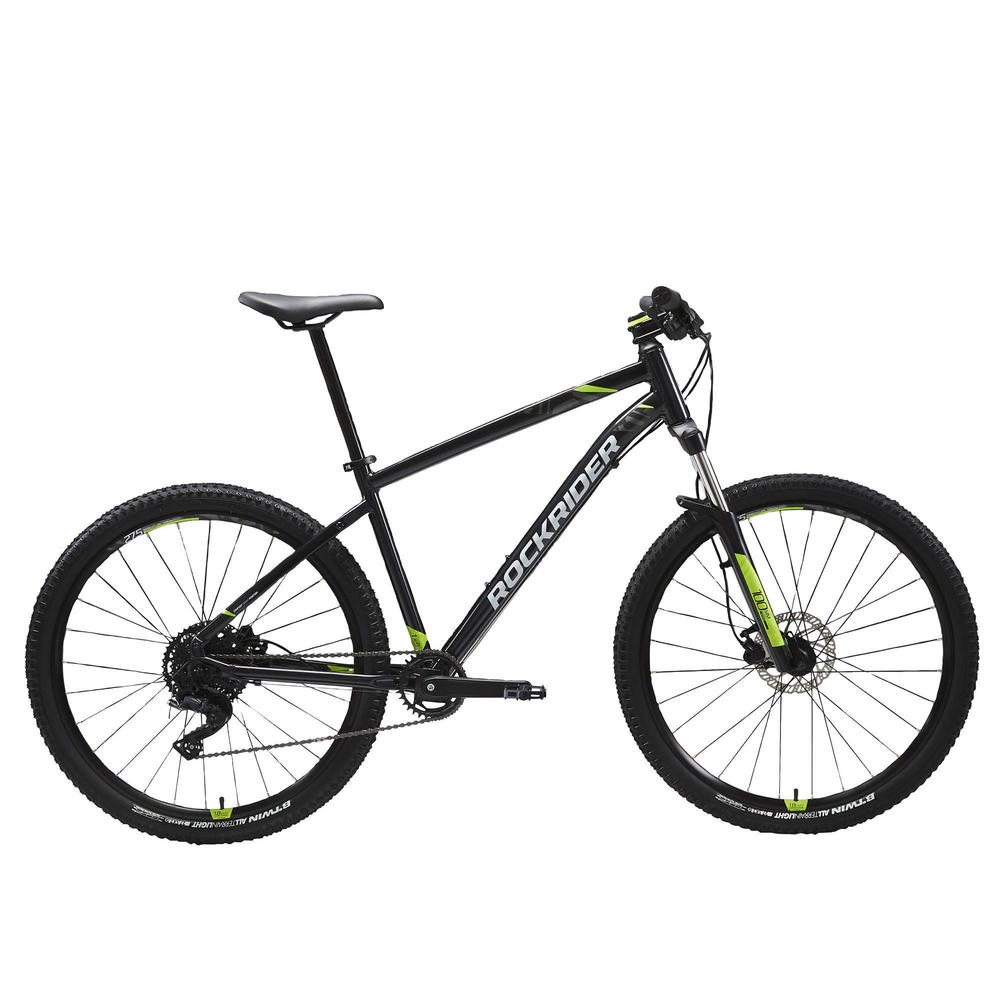MountainBike: (10, 272, 997, 868)
